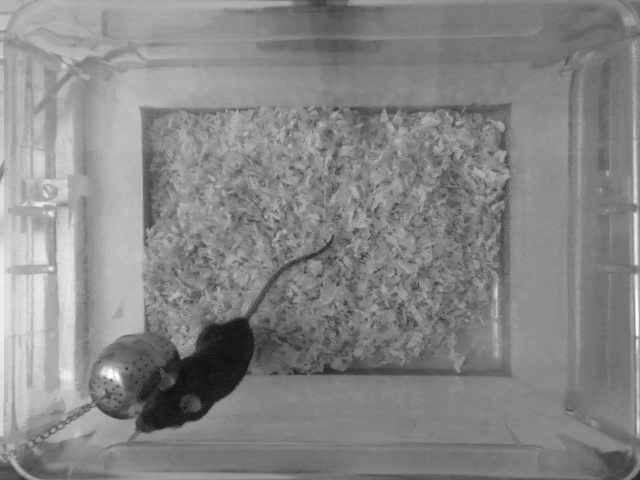mice: (133, 235, 339, 433)
